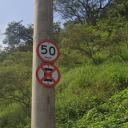speed_limit_50: (37, 40, 59, 62)
